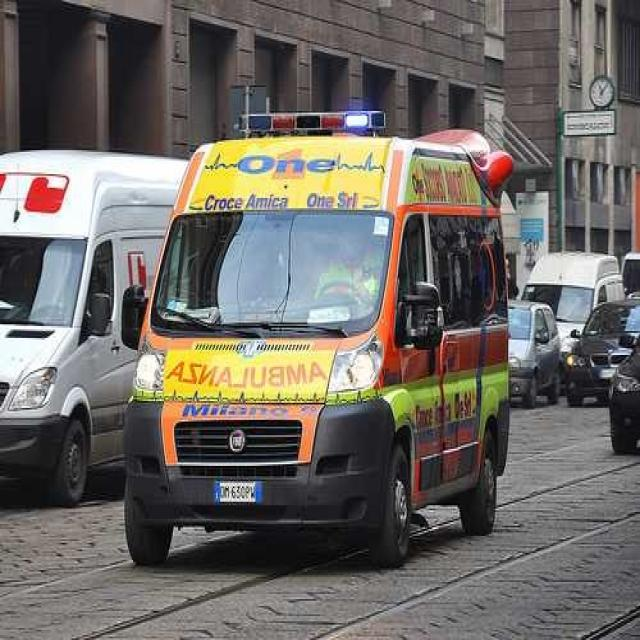ambulance: (130, 82, 523, 583)
